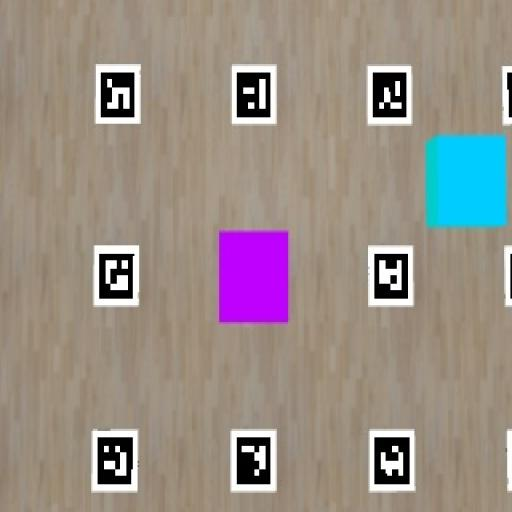car: (426, 135, 507, 228), (220, 231, 289, 324)
